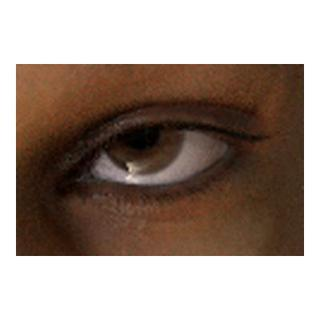pupil: (125, 116, 158, 148)
